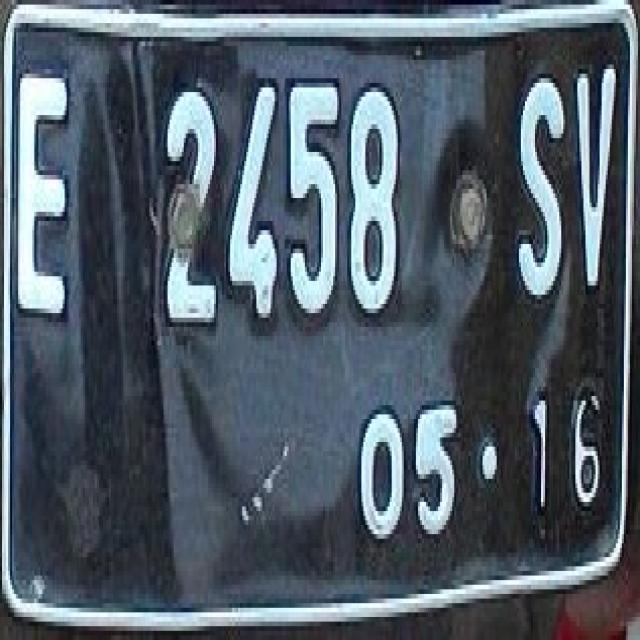plate: (0, 0, 624, 603)
